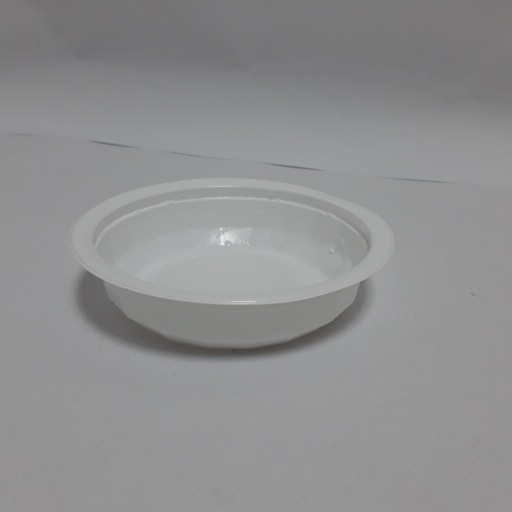Plastic_5: (67, 175, 395, 347)
